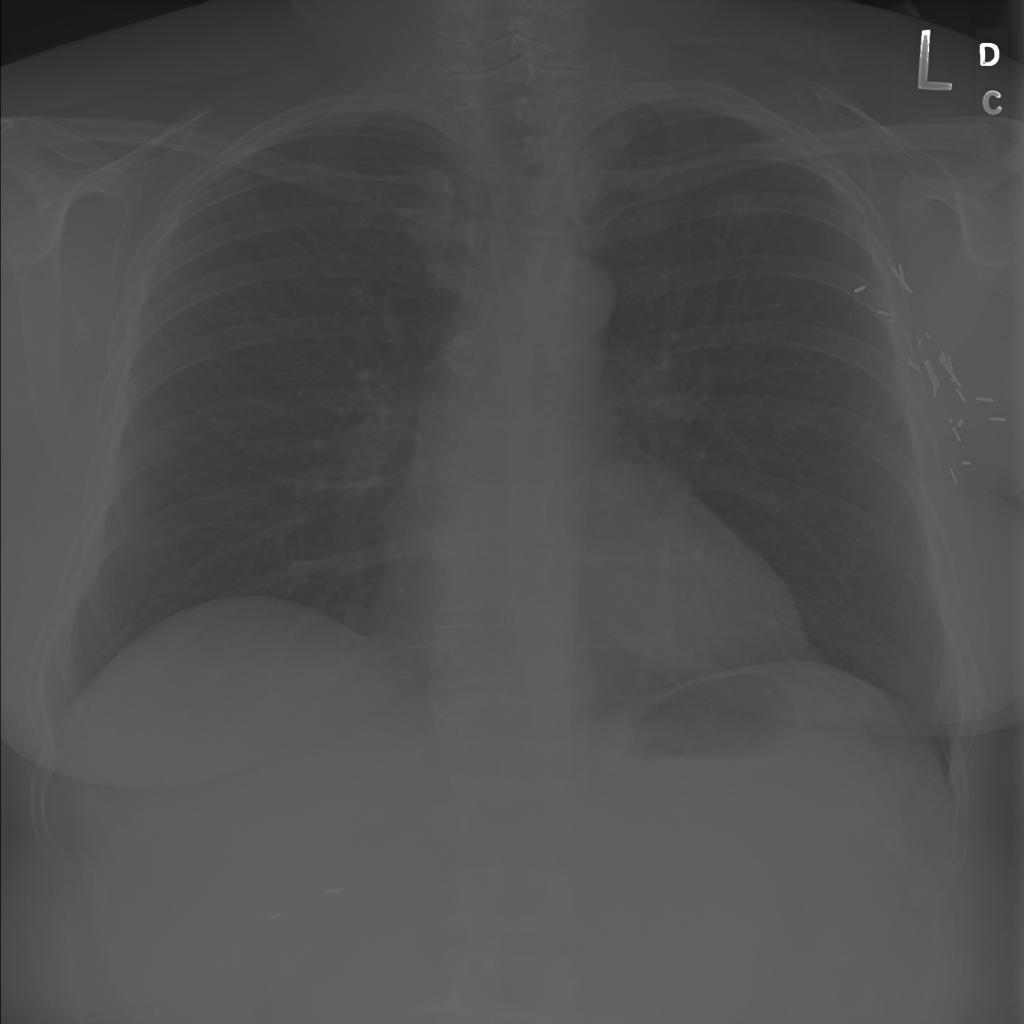Nodule: (400, 76, 462, 123)
